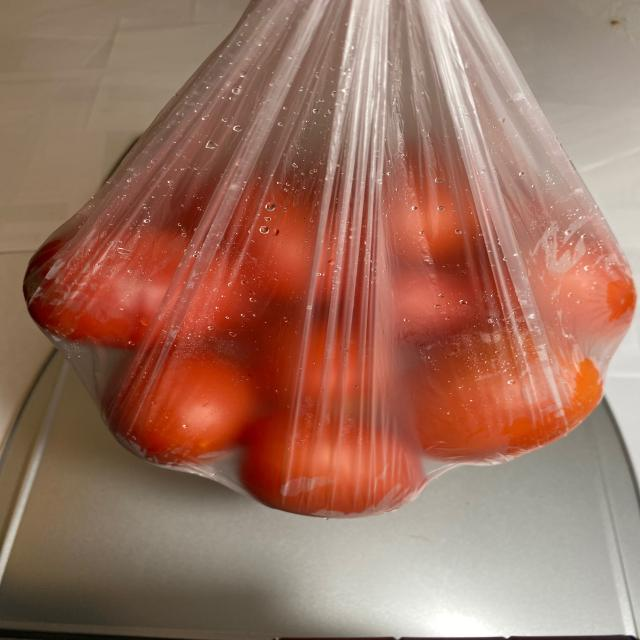tomato: (26, 133, 628, 511)
